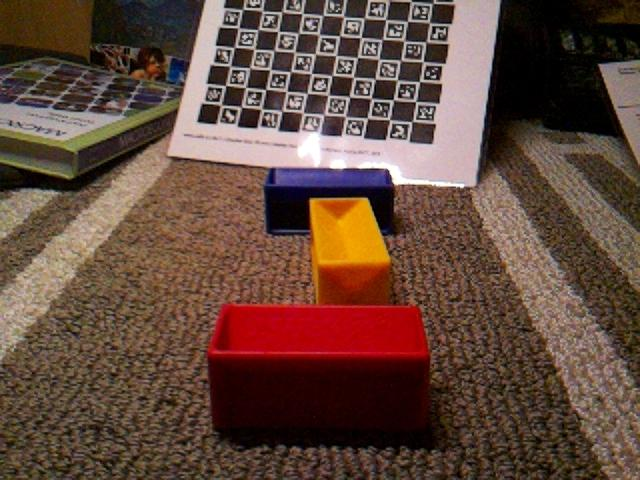blue: (262, 166, 397, 237)
red: (206, 301, 432, 438)
yellow: (307, 196, 393, 305)
